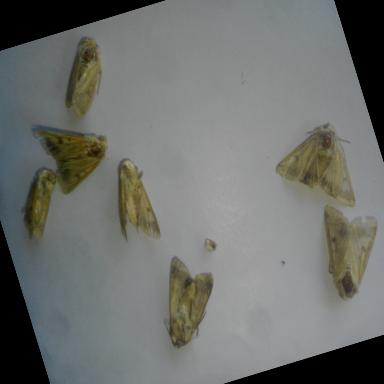abw: (264, 115, 372, 228), (142, 244, 234, 356), (308, 189, 384, 309), (28, 106, 122, 202), (44, 28, 124, 123), (96, 150, 165, 252), (6, 163, 74, 247)
